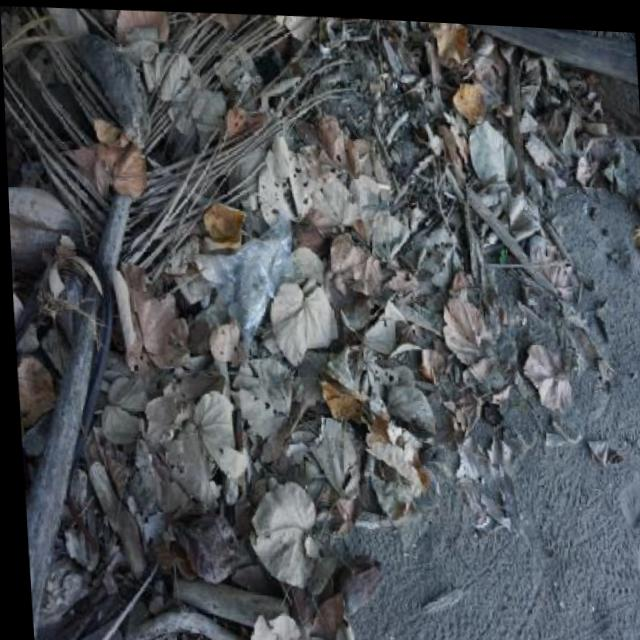plastic: (202, 198, 299, 345)
